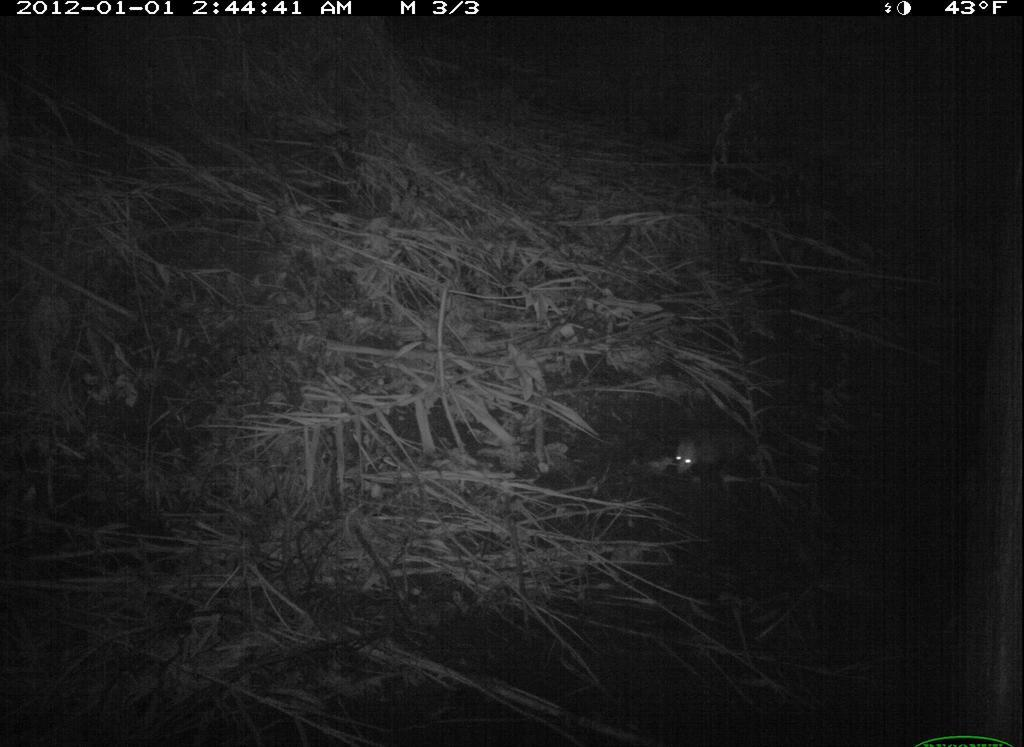opossum: (671, 418, 792, 495)
